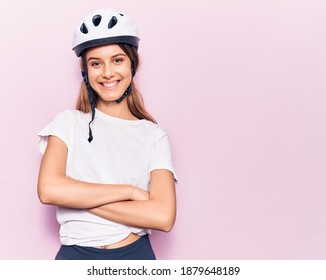helmet: (72, 9, 141, 101)
